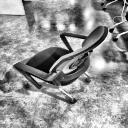chair_success: (10, 24, 110, 104)
